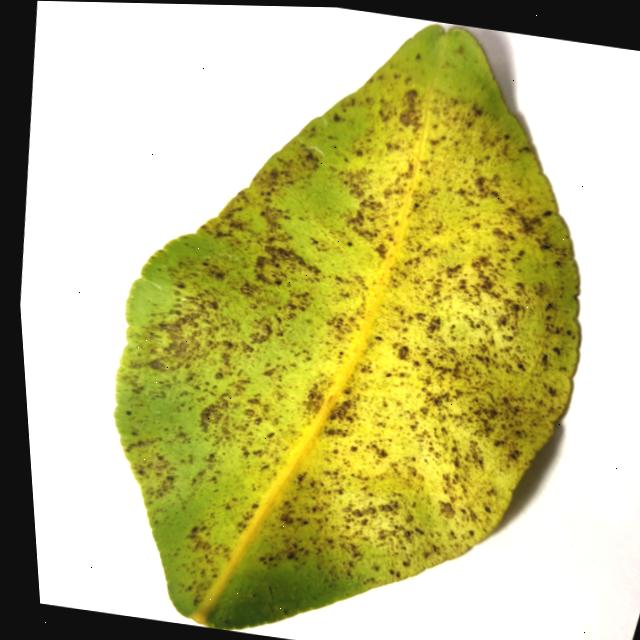melanose: (115, 26, 579, 629)
